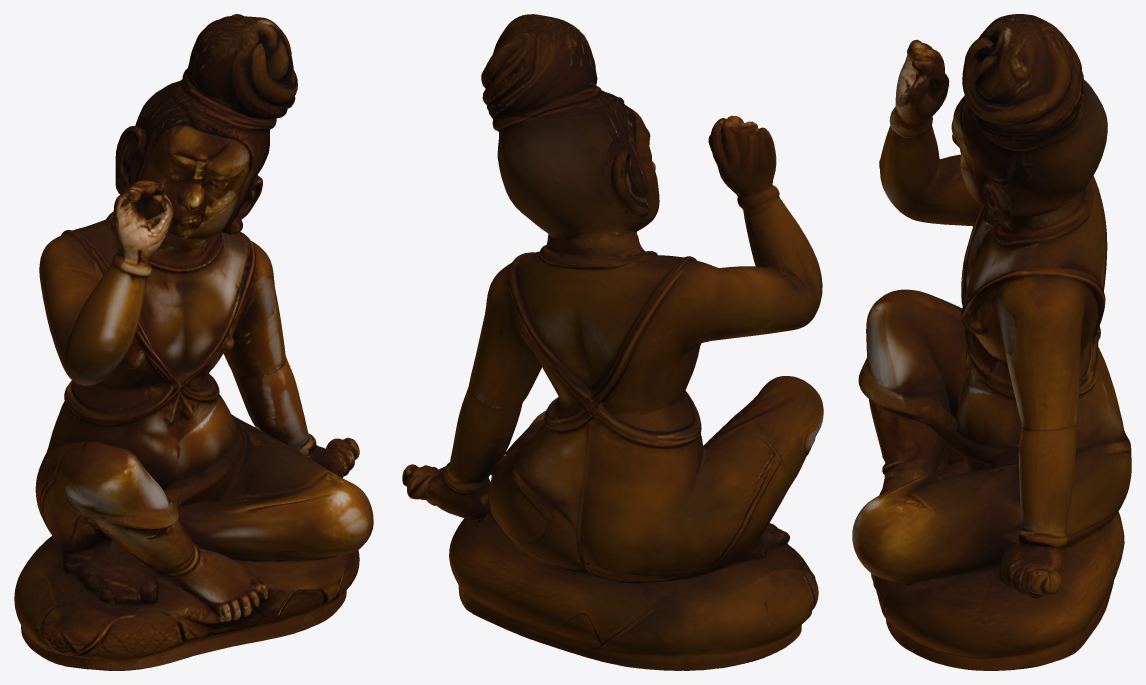
The picture shows the model from 3 angles, left to right: view 1: azimuth 30°, elevation 25°; view 2: azimuth 150°, elevation 25°; view 3: azimuth 270°, elevation 25°; orthographic projection. The views are drawn at different scales.
Visible parts, largest first — view 1: textured_mesh; view 2: textured_mesh; view 3: textured_mesh.
Part boxes in pixels (x1,y1,x2,y2): textured_mesh: [14, 14, 373, 670]; textured_mesh: [402, 14, 823, 670]; textured_mesh: [852, 14, 1131, 670].
Size of the model in its own units: 1.32 by 1.99 by 0.8304.
Materials: 1 (1 with a texture image).
